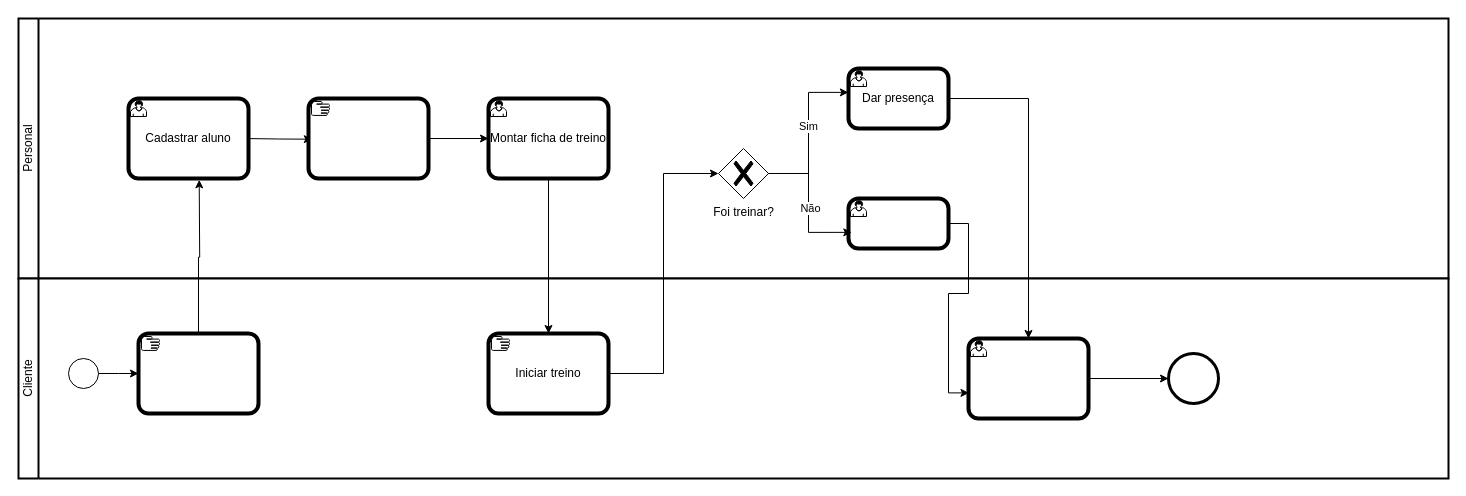
Some shapes in this 1466 by 496 pixel diagram are drawn without their labels. The centre of each missing label's shape, as x and y in pixels:
Coletar medidas: pixel 368 138
Consultar informações de treino e progresso: pixel 1028 378
Dar falta: pixel 898 223
Pedir para ser cadastrado: pixel 198 373
